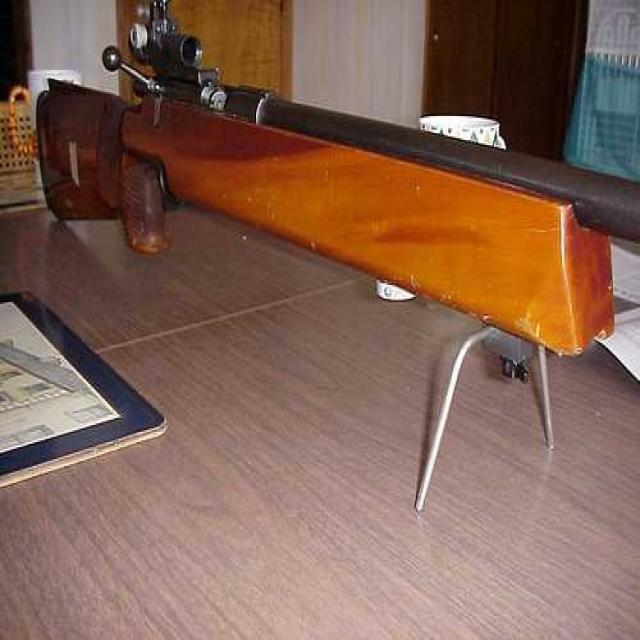weapon: (19, 2, 640, 436)
